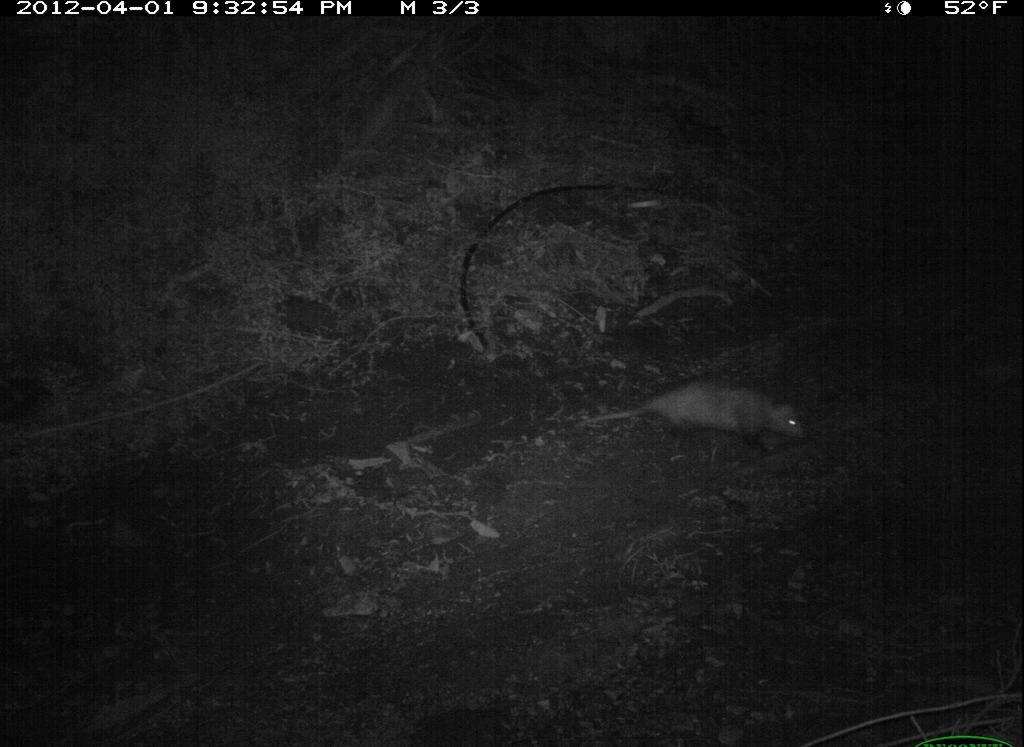opossum: (575, 379, 817, 465)
